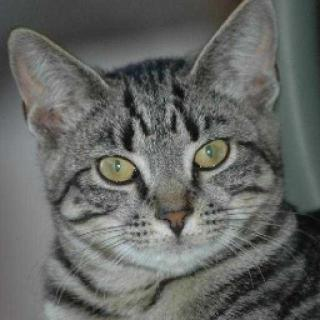cat: (9, 20, 289, 270)
nose: (151, 193, 194, 237)
